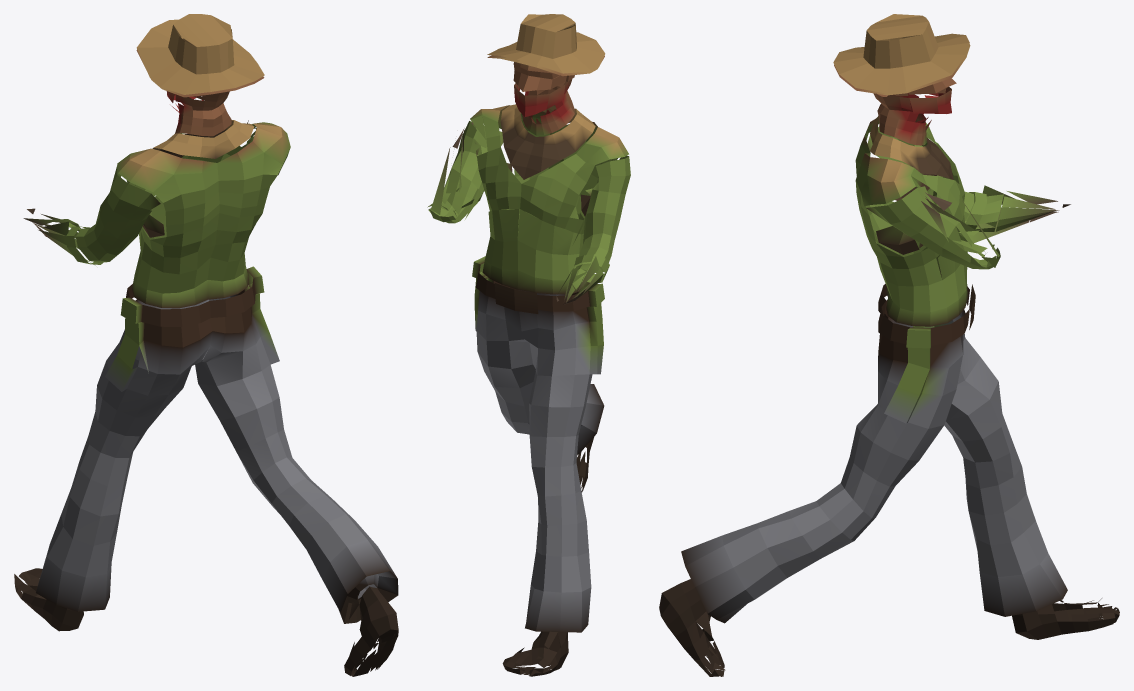
Rendered from man_3_c1.fbx.
3 renders of one model, left to right at view 1: azimuth 30°, elevation 25°; view 2: azimuth 150°, elevation 25°; view 3: azimuth 270°, elevation 25°, orthographic. The views are drawn at different scales.
Parts seen in each view (by area): view 1: cowboy; view 2: cowboy; view 3: cowboy.
Boxes of the visible parts, x1,y1,x2,y2 form: cowboy: [14, 14, 398, 676]; cowboy: [427, 14, 630, 676]; cowboy: [659, 14, 1119, 676].
Bounding box in the file's own units: 0.3304 × 0.9788 × 0.6263.
